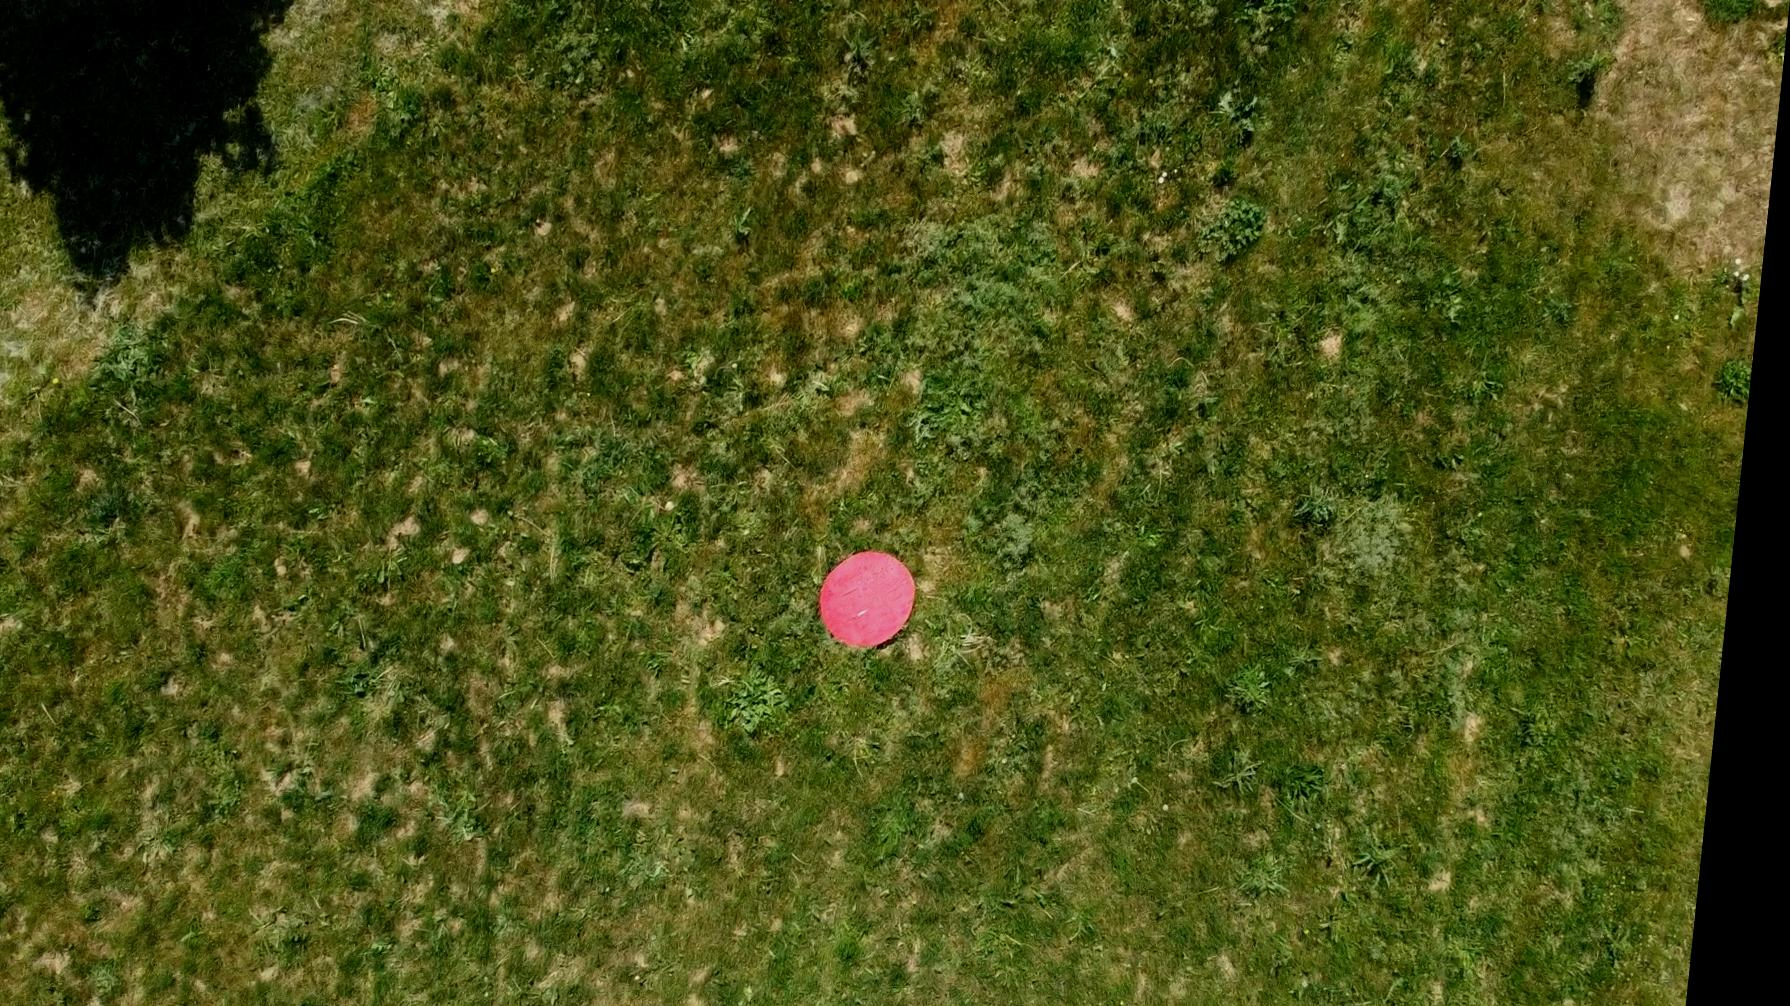Red: (821, 547, 936, 652)
